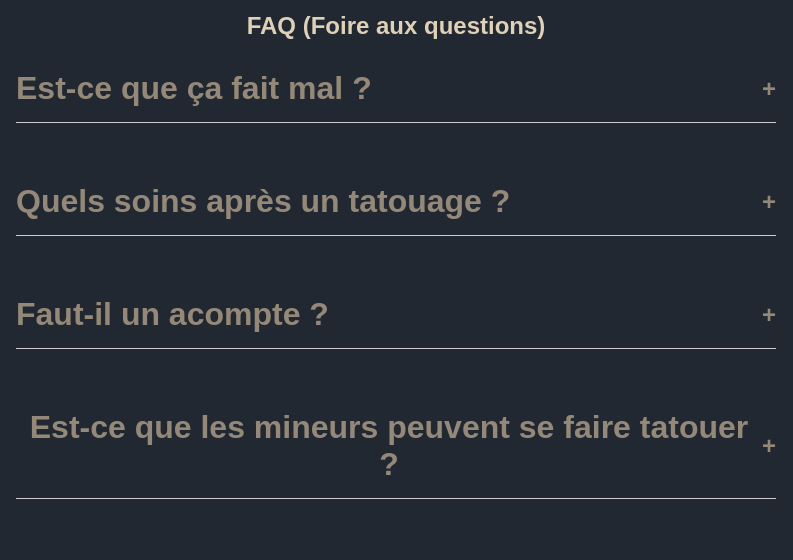
Scenario: Composant FAQ › affiche la réponse quand on clique sur une question et la masque quand on reclique
This screenshot has width=793, height=560.
Expected: the text "Le ressenti de la douleur varie" is not shown
Clique sur la question — la réponse doit apparaître
Click the heading "Est-ce que ça fait mal ? +" at (396, 88), box top-left (16, 70), bottom-right (776, 107)
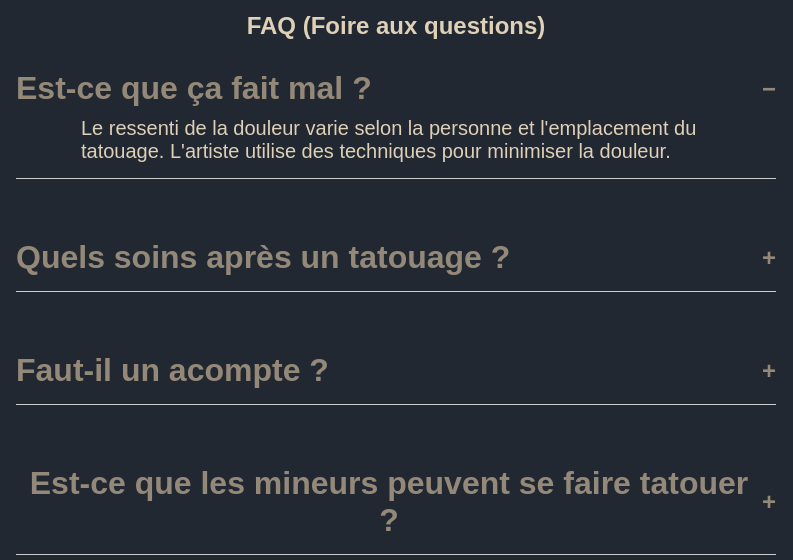
Result: the text "Le ressenti de la douleur varie" is shown at top-left (81, 117), bottom-right (696, 162)
Clique à nouveau — la réponse doit disparaître
Click the heading "Est-ce que ça fait mal ? −" at (396, 88), box top-left (16, 70), bottom-right (776, 107)
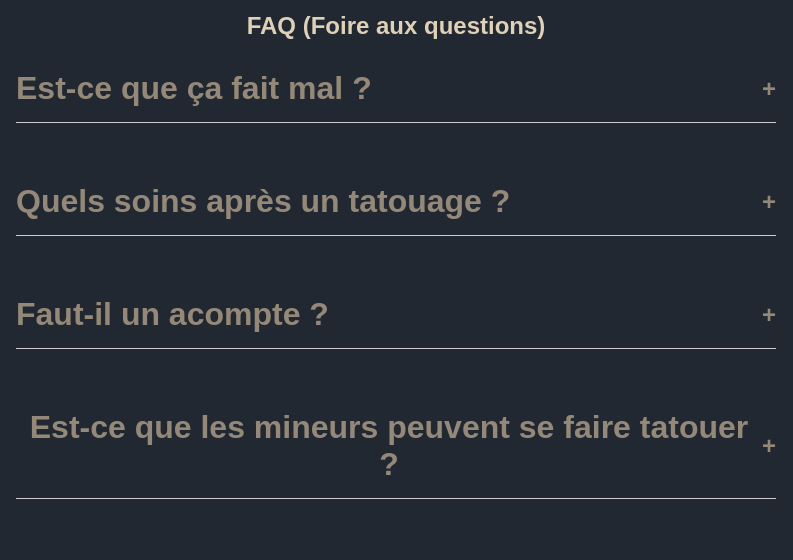
Result: the text "Le ressenti de la douleur varie" is gone
